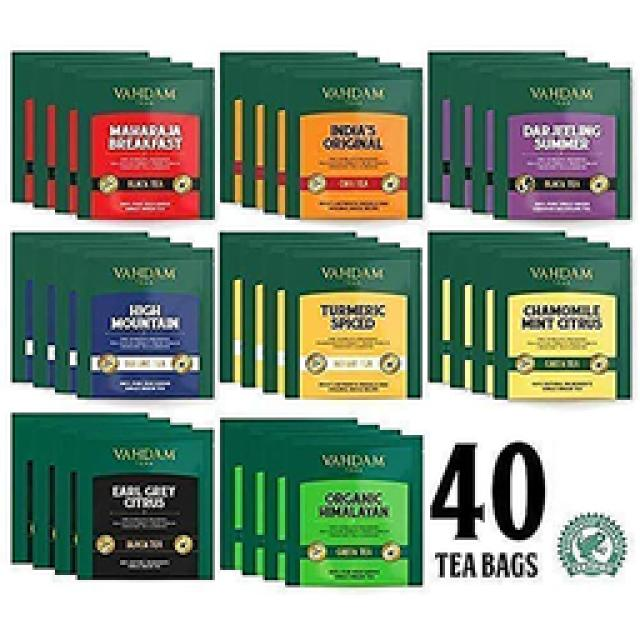tea-bags: (220, 230, 420, 398), (12, 230, 212, 398), (430, 230, 628, 398), (220, 52, 420, 218), (12, 52, 212, 218), (220, 420, 420, 585), (12, 412, 210, 578), (430, 52, 628, 218)
